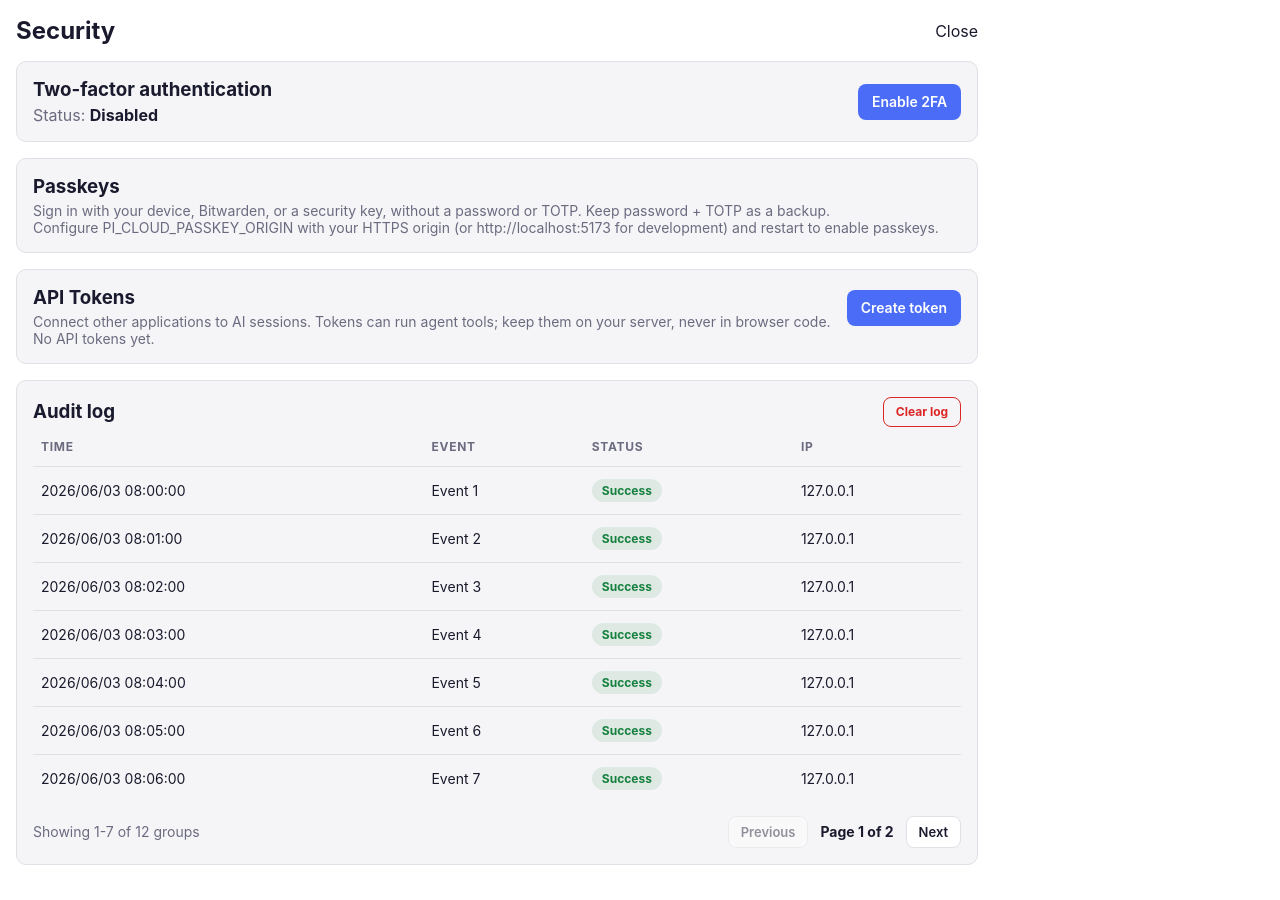
SecurityPanel › paginates audit events 7 rows at a time
Check: the text "Event 8" is not shown
Check: the text "Event 11" is not shown
Click the button with class "audit-next".
click(933, 832)  # box [906,816,961,848]
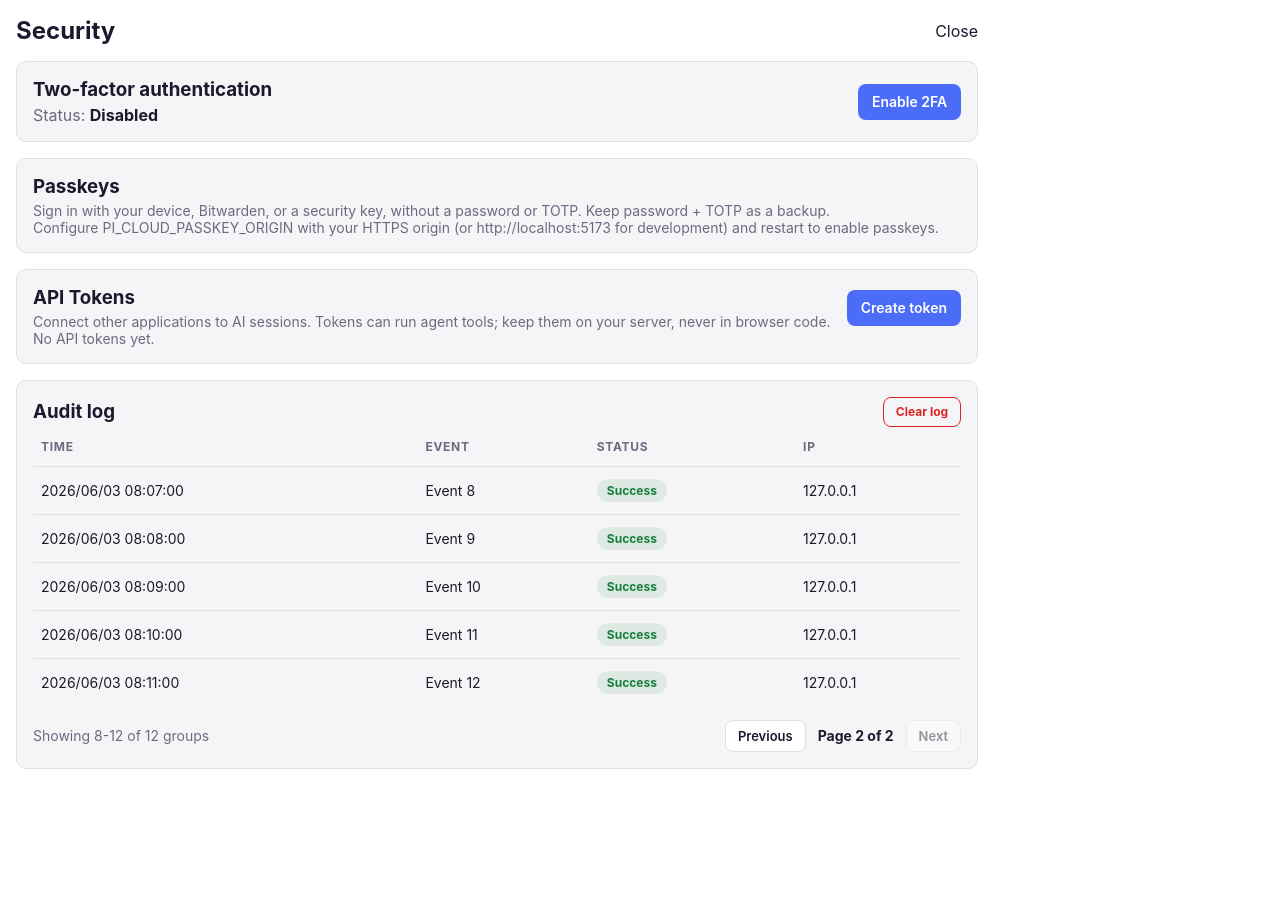
Check: the text "Event 8" is shown, box [425,482,475,499]
Check: the text "Event 11" is shown, box [425,626,478,643]
Check: the text "Event 12" is shown, box [425,674,481,691]
